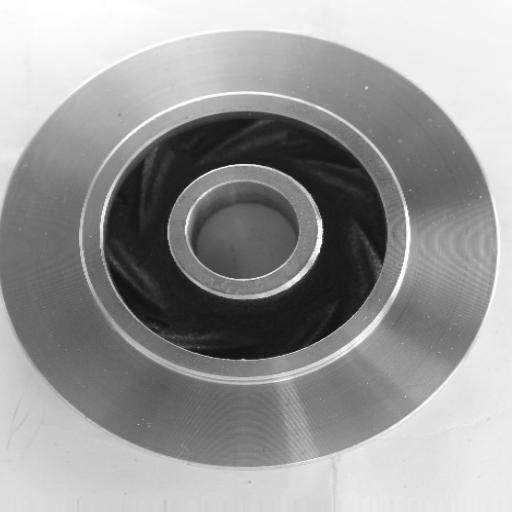polished_casting: (0, 29, 500, 468)
